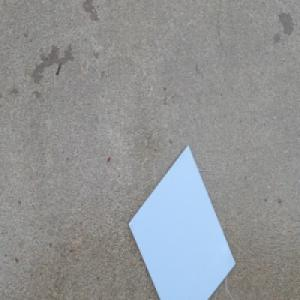PaintChip: (127, 144, 236, 300)
